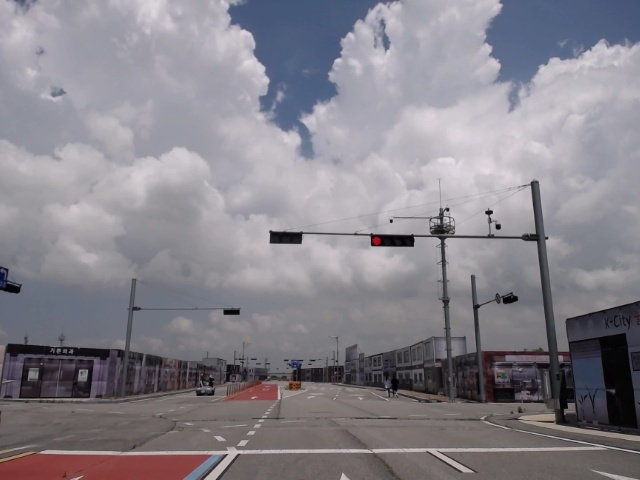red_4: (371, 235, 413, 247)
